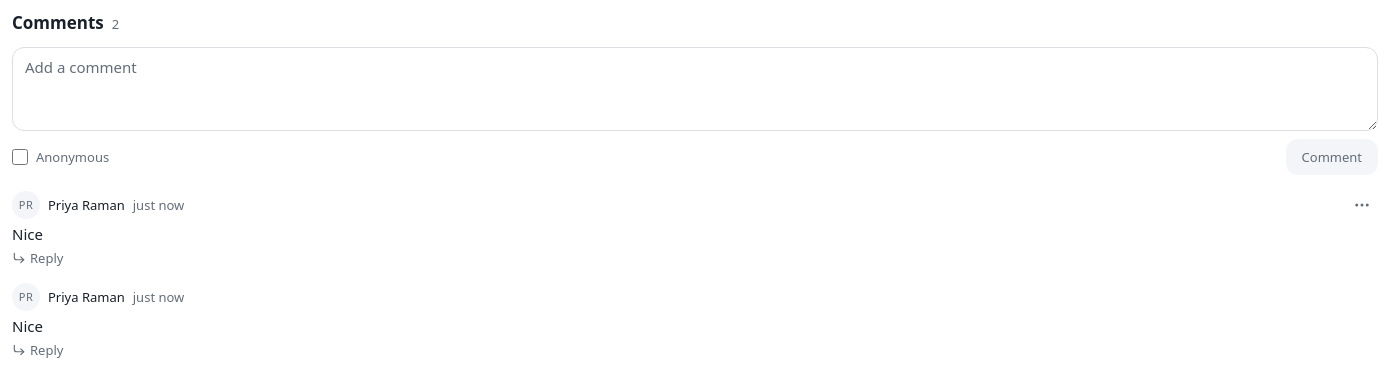
CommentsSection › offers the actions menu only where the server allows an action
// An admin on someone else's comment: Delete, but no Edit.
Click the button named "Comment actions": [1362, 205] box [1346, 189, 1378, 221]
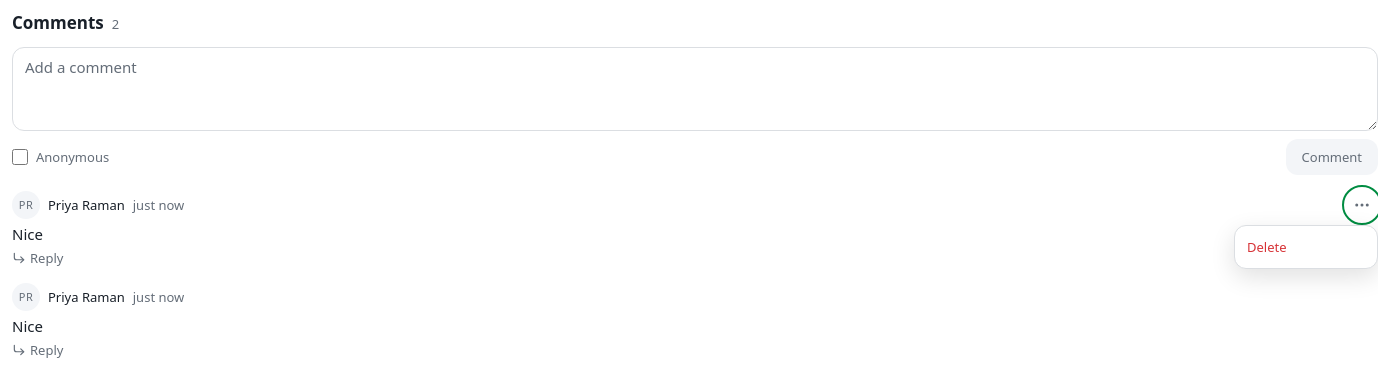
Expected: the menu item "Delete" is shown, [1235, 230, 1377, 264]
